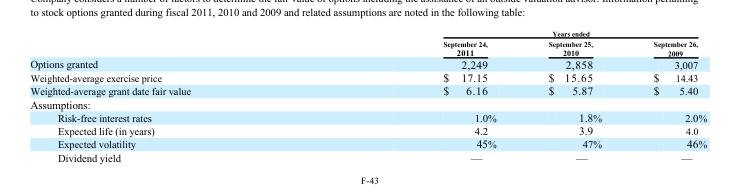table: (29, 29, 706, 163)
table column: (29, 29, 316, 163), (316, 29, 521, 163), (521, 29, 626, 163), (626, 29, 706, 163)
table column header: (29, 29, 706, 57)
table projected row header: (29, 97, 706, 110)
table row: (29, 38, 706, 57), (29, 83, 706, 97), (29, 136, 706, 150), (29, 57, 706, 70), (29, 70, 706, 83), (29, 97, 706, 110), (29, 110, 706, 123), (29, 123, 706, 136), (29, 150, 706, 163), (29, 29, 706, 38)
table spanning cell: (316, 29, 706, 38)
